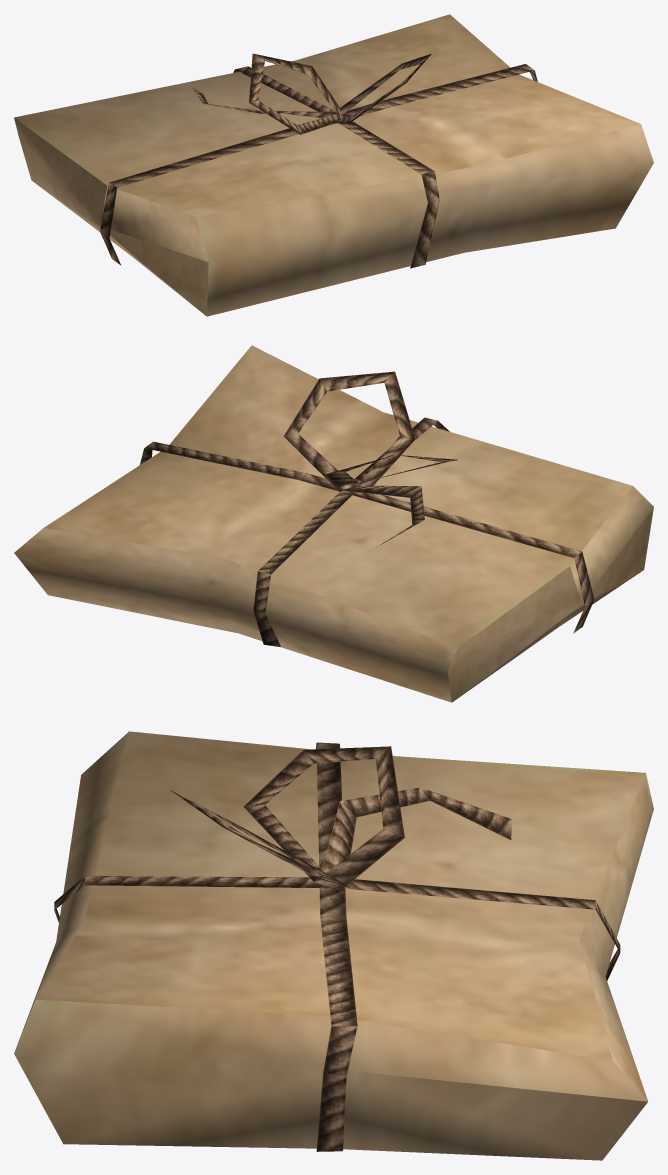
Rendered from pir_m_prp_hol_decoGift02_winter08.fbx.
3 renders of one model, top to bottom at view 1: azimuth 30°, elevation 25°; view 2: azimuth 150°, elevation 25°; view 3: azimuth 270°, elevation 25°, orthographic. The views are drawn at different scales.
Parts seen in each view (by area): view 1: giftbox, rope1, rope, rope3, rope4, rope2; view 2: giftbox, rope1, rope4, rope, rope2, rope3; view 3: giftbox, rope1, rope3, rope, rope2, rope4.
Part boxes in pixels (x1,y1,x2,y2): giftbox: (14, 14, 653, 316); rope1: (100, 64, 537, 265); rope: (233, 66, 439, 268); rope3: (249, 53, 342, 134); rope4: (331, 53, 431, 123); rope2: (192, 87, 336, 118); giftbox: (14, 345, 653, 702); rope1: (140, 441, 594, 633); rope4: (283, 371, 415, 491); rope: (253, 417, 449, 646); rope2: (342, 485, 424, 547); rope3: (326, 454, 457, 487); giftbox: (14, 731, 653, 1160); rope1: (316, 742, 357, 1151); rope3: (243, 746, 404, 890); rope: (54, 876, 620, 980); rope2: (322, 787, 511, 888); rope4: (169, 789, 349, 887).
Bounding box in the file's own units: 124 × 41.44 × 103.
Materials: 1 (1 with a texture image).
